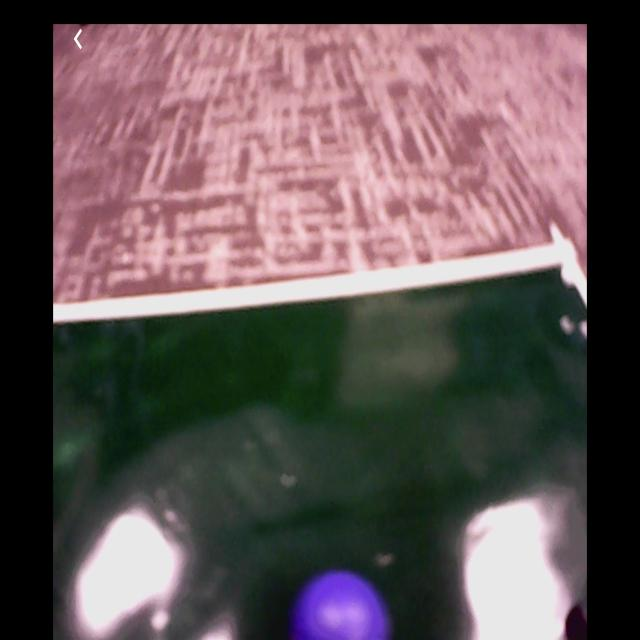ball: (297, 568, 385, 640)
